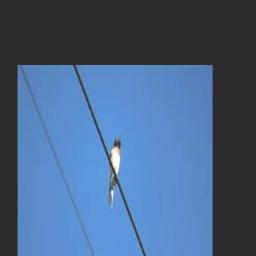Swallow: (107, 137, 121, 208)
